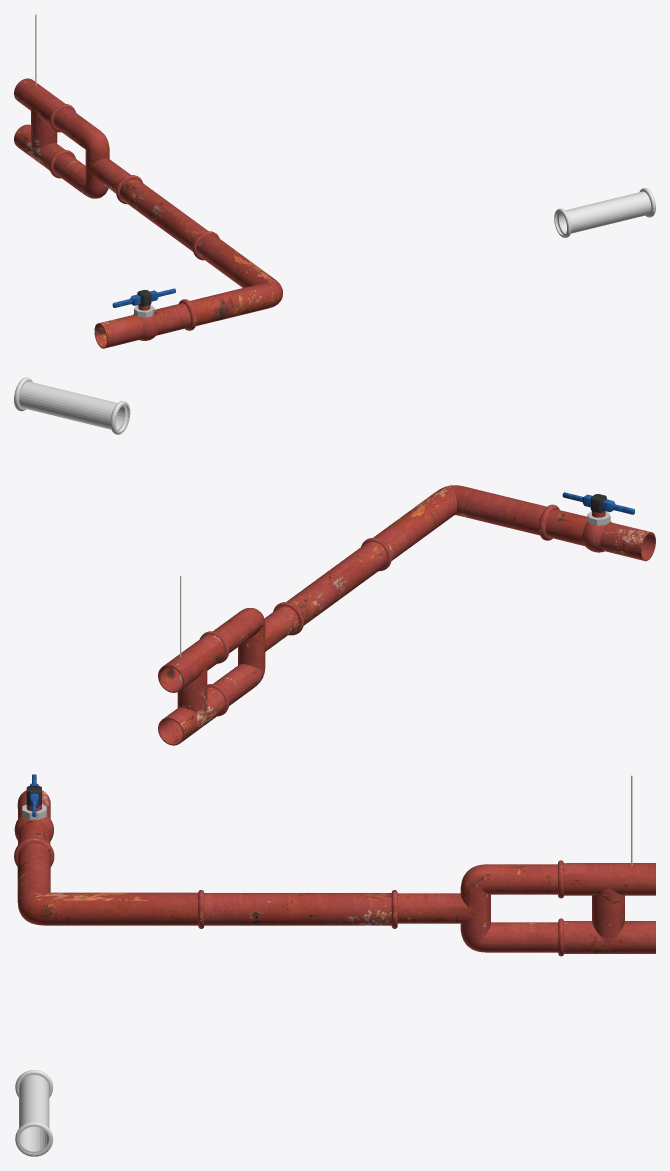
File: pipes.fbx
The picture shows the model from 3 angles, top to bottom: view 1: azimuth 30°, elevation 25°; view 2: azimuth 150°, elevation 25°; view 3: azimuth 270°, elevation 25°; orthographic projection. The views are drawn at different scales.
Parts seen in each view (by area): view 1: Cylinder.002, Cylinder, SinglePipe, Cylinder.001, Pipe.001, Pipe; view 2: Cylinder.002, Cylinder.001, Cylinder, SinglePipe, Pipe.001, Pipe, Valve; view 3: Cylinder, Cylinder.002, Cylinder.001, SinglePipe, Pipe.001, Pipe.
Boxes of the visible parts, x1,y1,x2,y2 form: Cylinder.002: (190, 234, 282, 325); Cylinder: (49, 104, 130, 198); SinglePipe: (116, 175, 219, 260); Cylinder.001: (14, 78, 65, 170); Pipe.001: (554, 188, 655, 237); Pipe: (94, 299, 196, 348); Cylinder.002: (373, 485, 546, 560); Cylinder.001: (158, 634, 225, 745); Cylinder: (200, 606, 299, 716); SinglePipe: (273, 537, 391, 635); Pipe.001: (14, 377, 130, 434); Pipe: (539, 504, 655, 561); Valve: (582, 511, 611, 552); Cylinder: (397, 860, 563, 956); Cylinder.002: (17, 843, 198, 925); Cylinder.001: (564, 863, 655, 953); SinglePipe: (198, 890, 397, 928); Pipe.001: (15, 1070, 53, 1156); Pipe: (14, 790, 54, 866).
Size of the model in its own units: 630 by 157 by 507.
